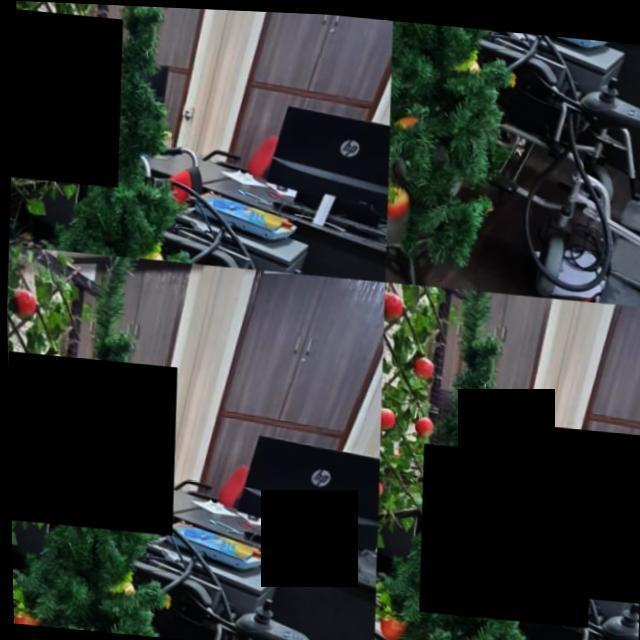tree: (4, 245, 215, 640), (380, 273, 558, 640), (3, 0, 207, 265), (374, 16, 518, 283)
